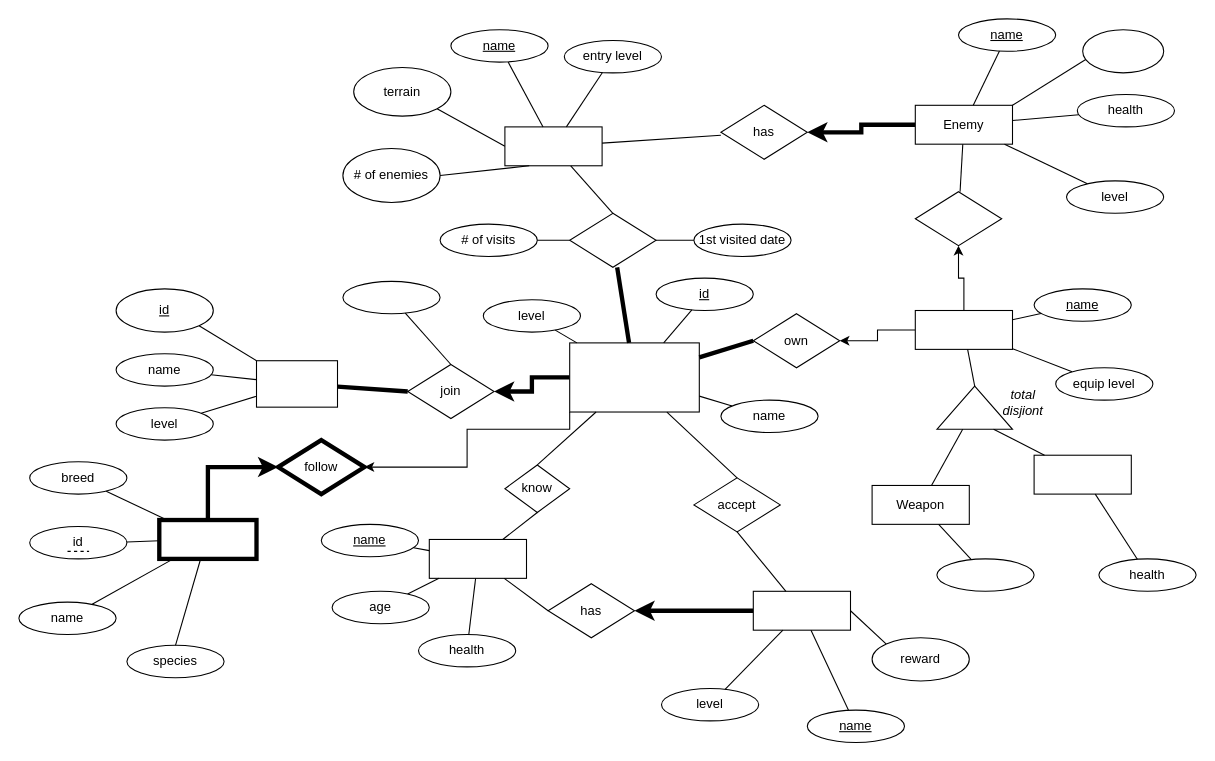
Some shapes in this 1215 by 761 pixel diagram are drawn without their labels. Each missing label, with the centre of its shape:
"Armor" belongs at pixel 1082 474.
"dropping" belongs at pixel 958 218.
"durability" belongs at pixel 985 574.
"explore" belongs at pixel 612 239.
"Guild" belongs at pixel 296 383.
"ISA" belongs at pixel 974 407.
"Item" belongs at pixel 963 329.
"leader" belongs at pixel 391 297.
"Map" belongs at pixel 553 146.
"Mission" belongs at pixel 801 610.
"NPC" belongs at pixel 477 558.
"Pet" belongs at pixel 207 539.
"Player" belongs at pixel 634 377.
"type" belongs at pixel 1123 51.
